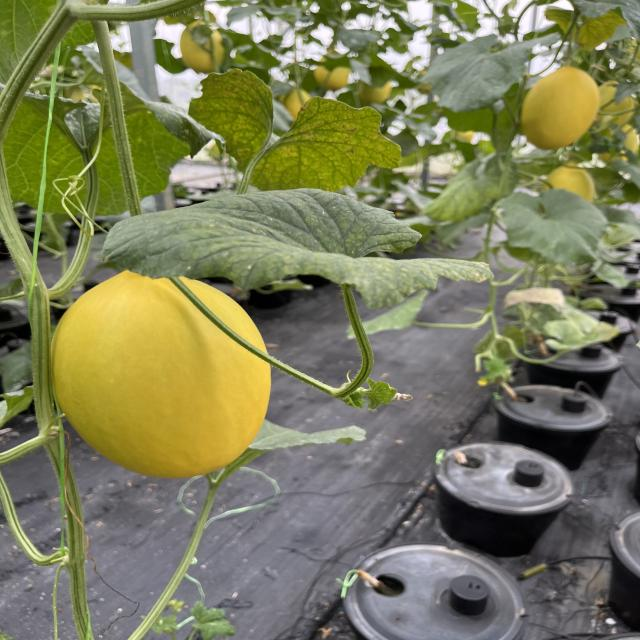alternaria leaf blight: (107, 190, 492, 312), (195, 70, 398, 198)
